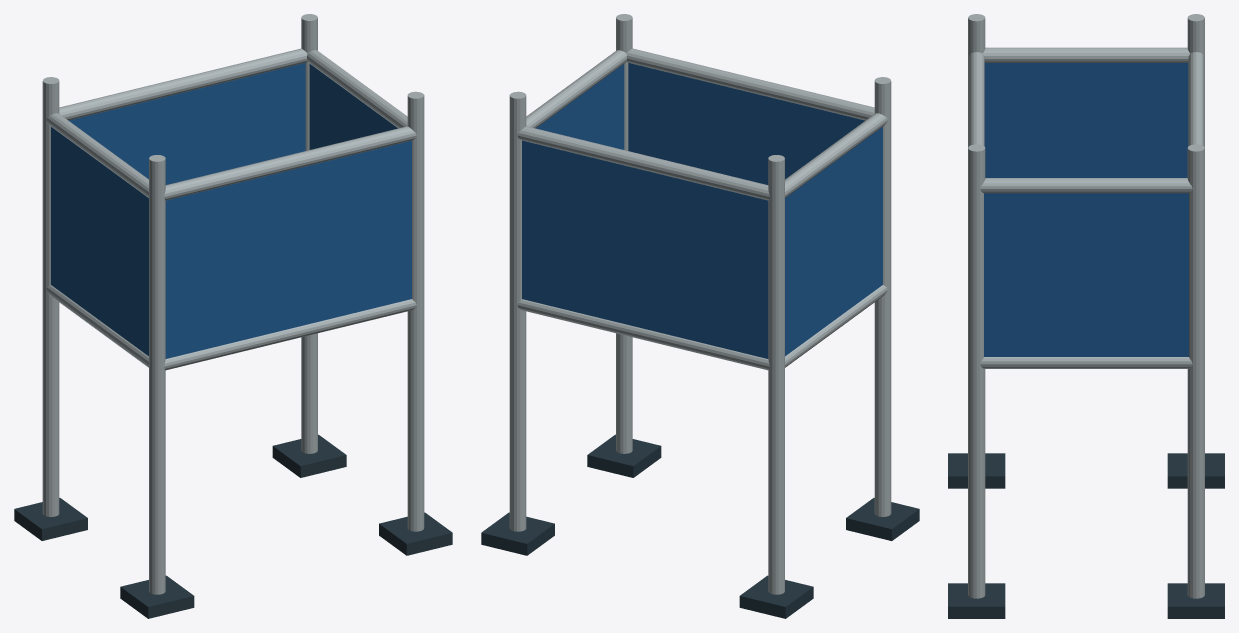
File: scendance-plan-signage-frame-4.glb
3 views of the same model, side by side, from view 1: azimuth 30°, elevation 25°; view 2: azimuth 150°, elevation 25°; view 3: azimuth 270°, elevation 25° (orthographic). The views are drawn at different scales.
Bounding box in the file's own units: 1.39 × 1.94 × 1.06.
